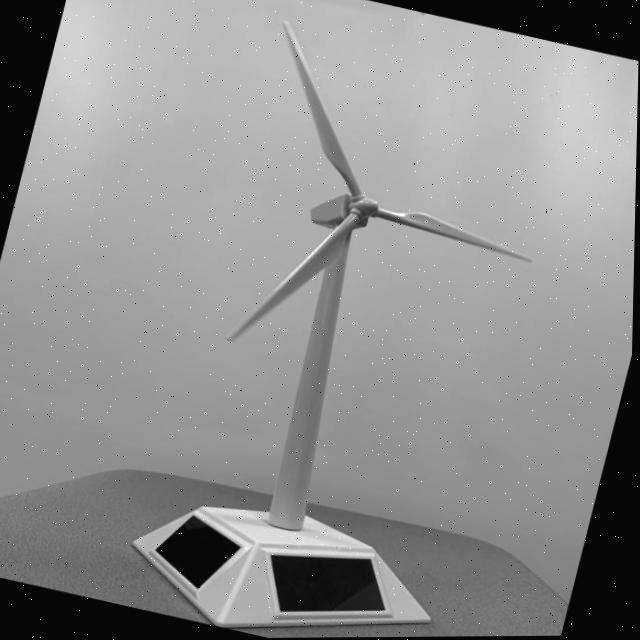solid-blade: (229, 212, 360, 341), (282, 20, 361, 196), (373, 208, 532, 261)
